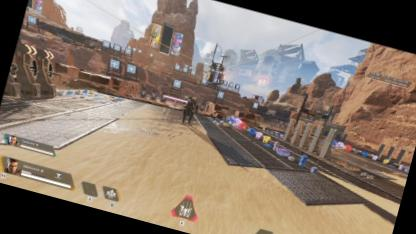Target: (179, 94, 200, 124)
